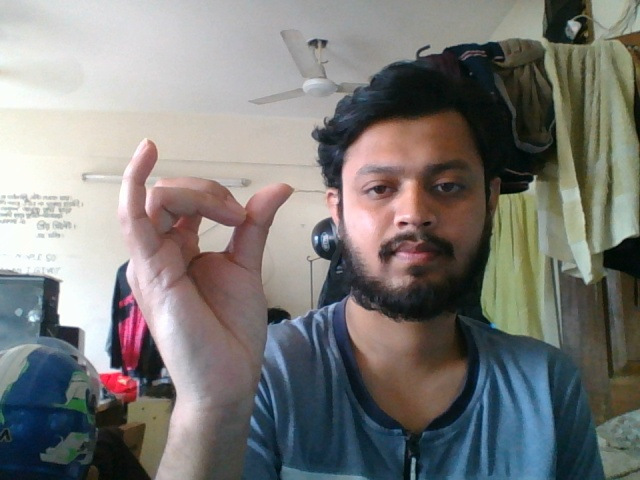oi: (114, 137, 298, 417)
